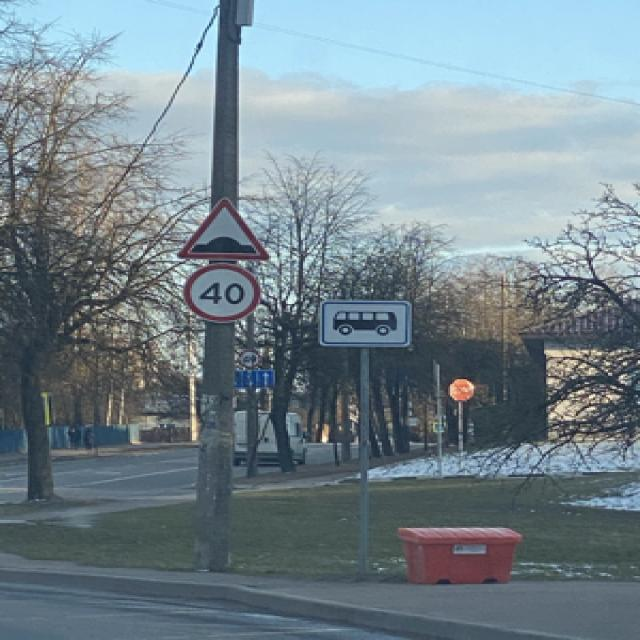speedlimit: (179, 261, 256, 320), (239, 347, 258, 368)
stop: (446, 379, 471, 400)
